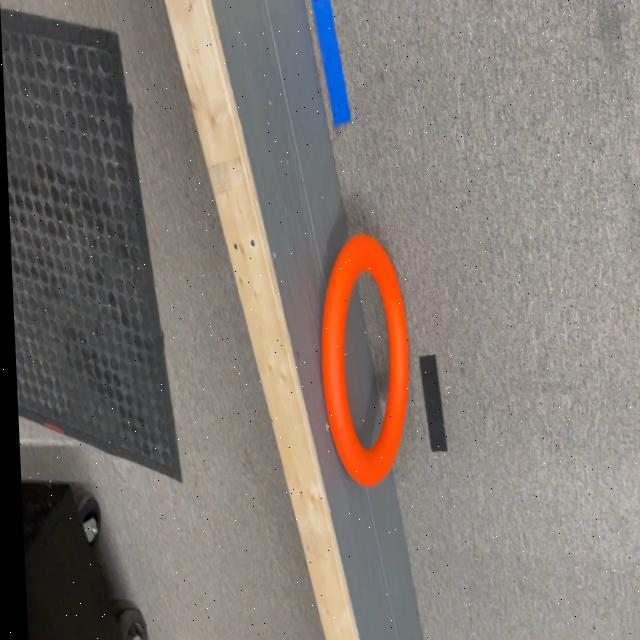note: (313, 236, 411, 486)
